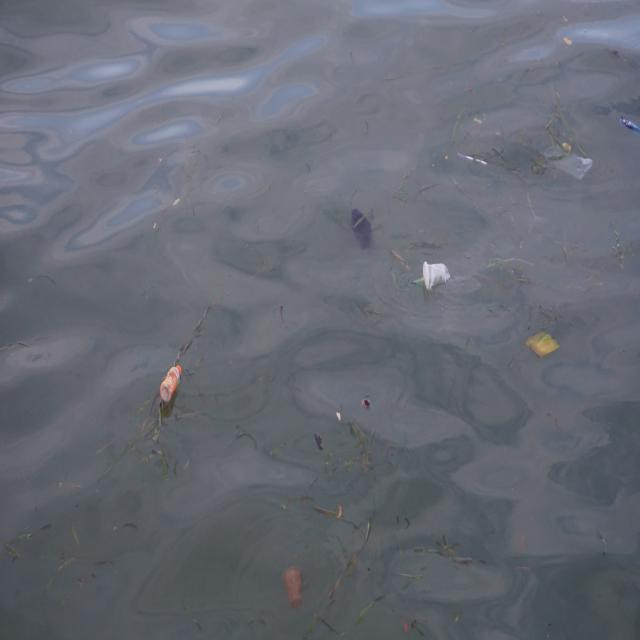Botol Plastik: (160, 355, 185, 409)
Bungkus Minuman: (281, 560, 308, 615), (421, 255, 453, 300)
Kantong Plastik: (541, 141, 596, 186), (350, 204, 377, 250)
